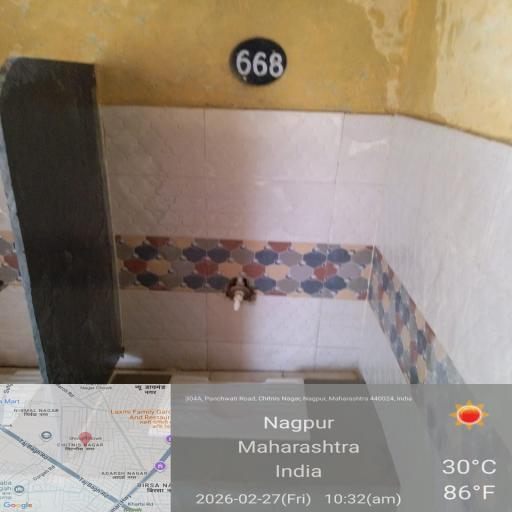clean_floor: (0, 0, 512, 357)
